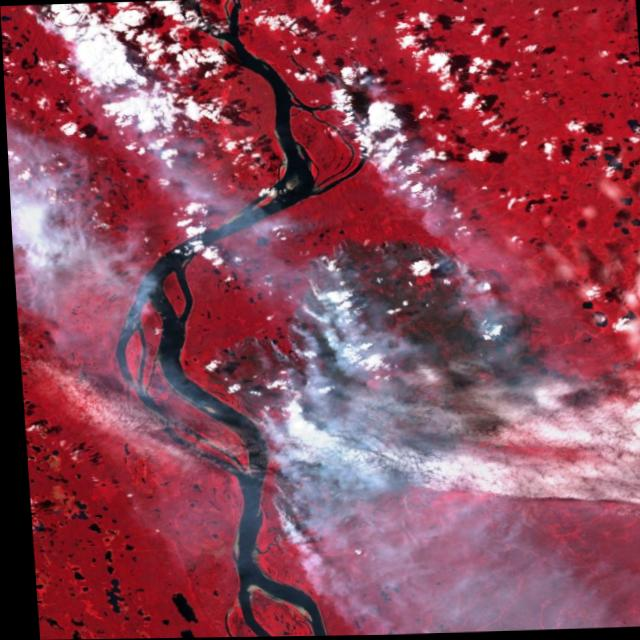fire: (196, 230, 477, 536), (307, 62, 418, 193), (22, 3, 96, 37)
